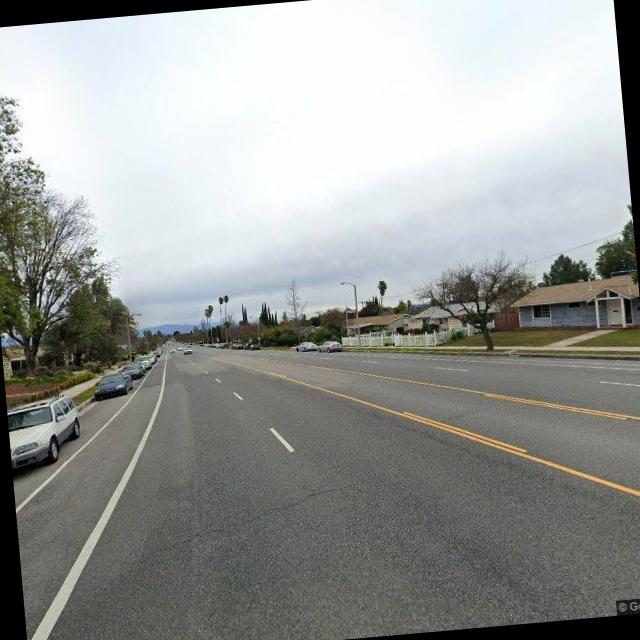crack: (154, 479, 358, 551)
